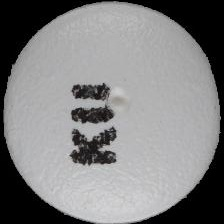62175-270: (0, 0, 224, 224)
